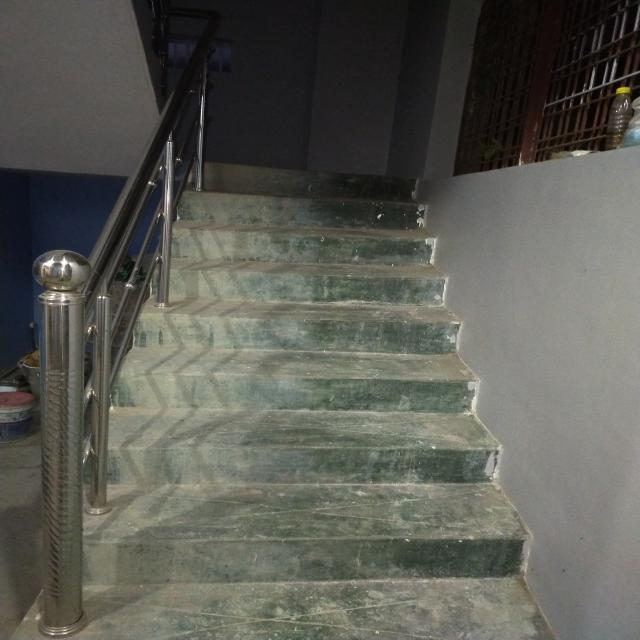Stairs: (34, 49, 596, 624)
